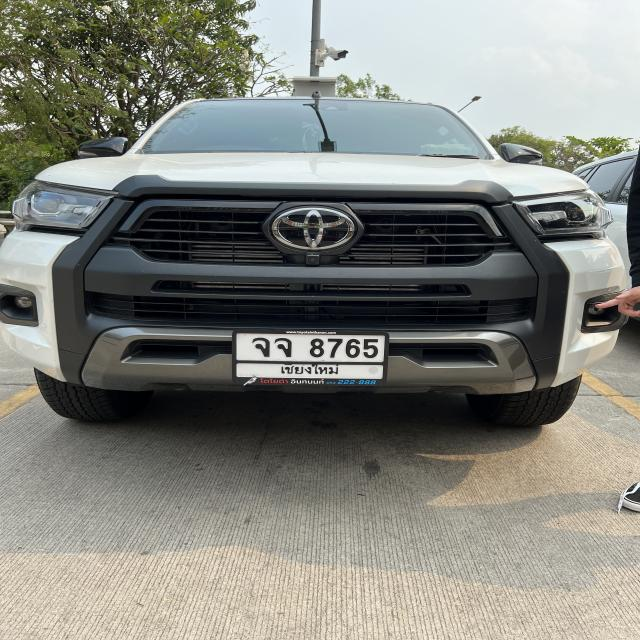license_plate: (230, 325, 390, 389)
